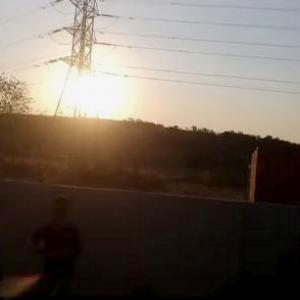follow: (21, 186, 84, 299)
